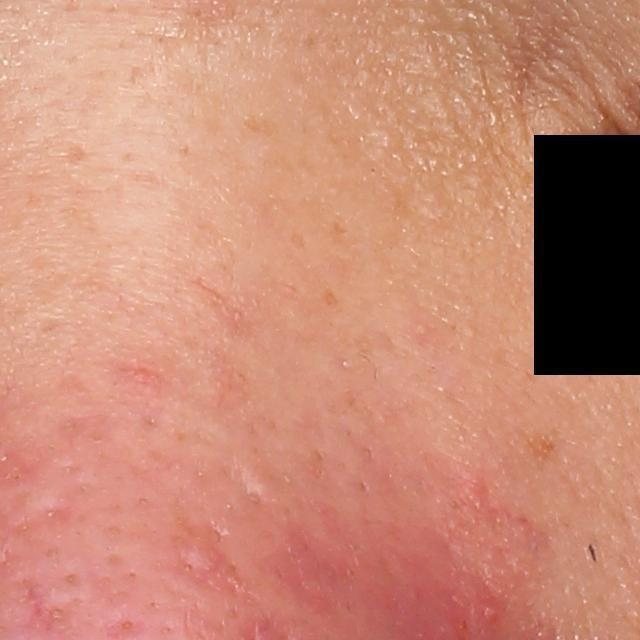melasma: (523, 432, 562, 466), (319, 287, 344, 313)
